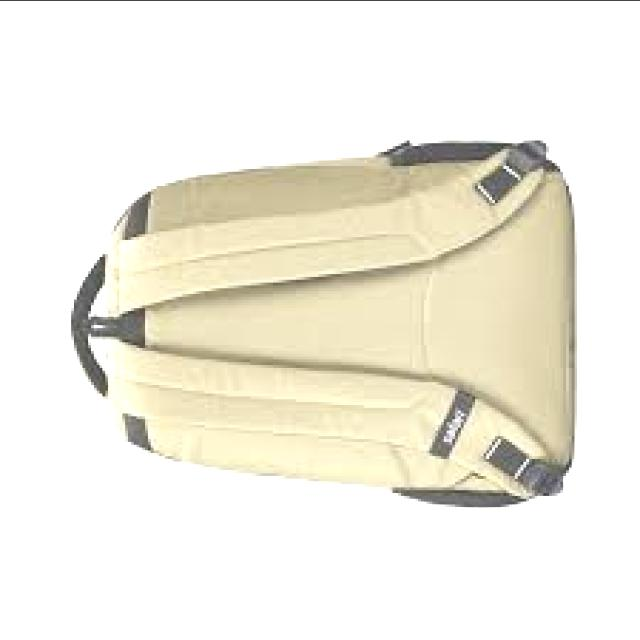backpack: (70, 141, 576, 511)
